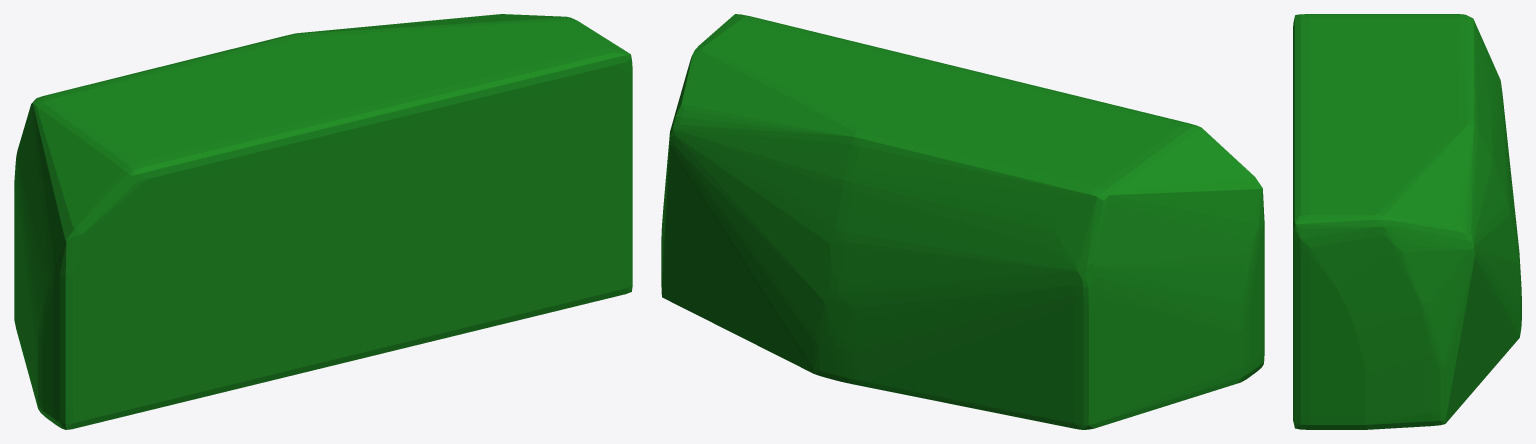
The model's file is left_shoulder_pitch_link_part_8.obj.
3 renders of one model, left to right at view 1: azimuth 30°, elevation 25°; view 2: azimuth 150°, elevation 25°; view 3: azimuth 270°, elevation 25°, orthographic. The views are drawn at different scales.
Size of the model in its own units: 0.0673 by 0.0274 by 0.0271.
